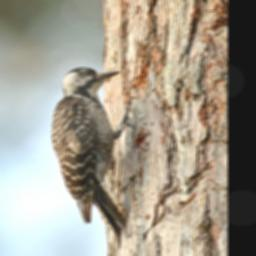Woodpecker: (49, 62, 138, 249)
